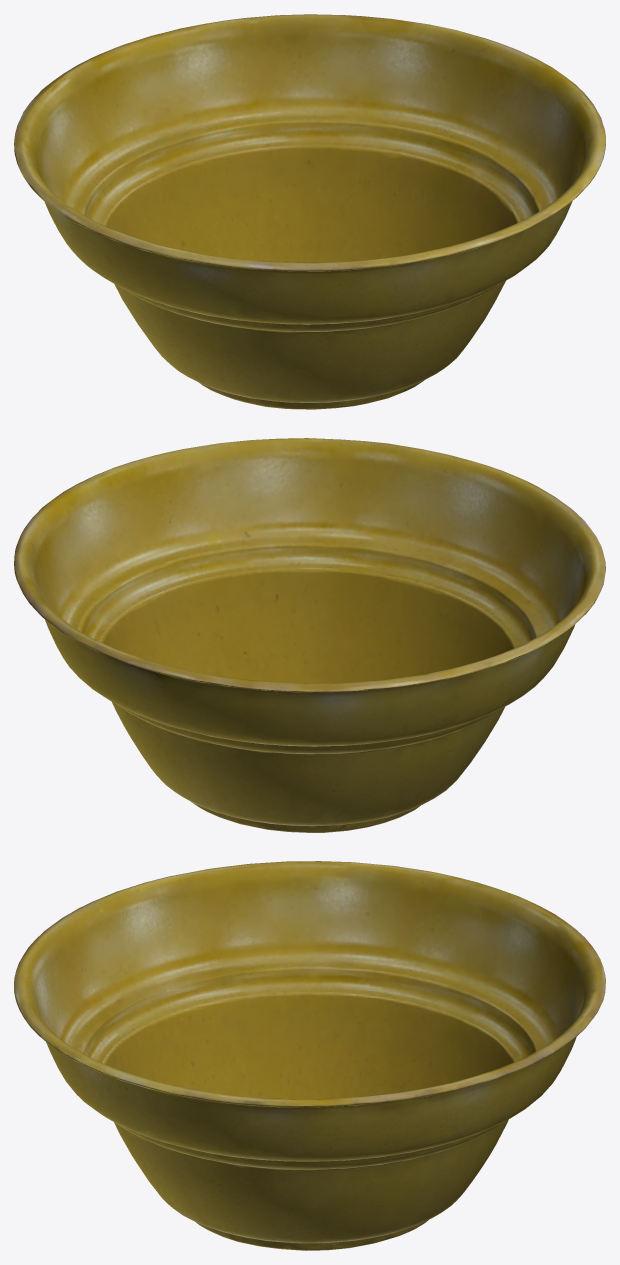
Rendered from Ecoforms_Plant_Bowl_Atlas_Low.glb.
3 views of the same model, one above another, from view 1: azimuth 30°, elevation 25°; view 2: azimuth 150°, elevation 25°; view 3: azimuth 270°, elevation 25° (orthographic).
Visible parts, largest first — view 1: Ecoforms_Plant_Bowl_Atlas_Low; view 2: Ecoforms_Plant_Bowl_Atlas_Low; view 3: Ecoforms_Plant_Bowl_Atlas_Low.
Boxes of the visible parts, x1,y1,x2,y2 form: Ecoforms_Plant_Bowl_Atlas_Low: [14, 14, 605, 409]; Ecoforms_Plant_Bowl_Atlas_Low: [14, 438, 605, 832]; Ecoforms_Plant_Bowl_Atlas_Low: [14, 861, 605, 1250].
Size of the model in its own units: 0.3219 by 0.1344 by 0.322.
1 material, 1 textured.
